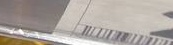1d: (79, 23, 172, 45)
